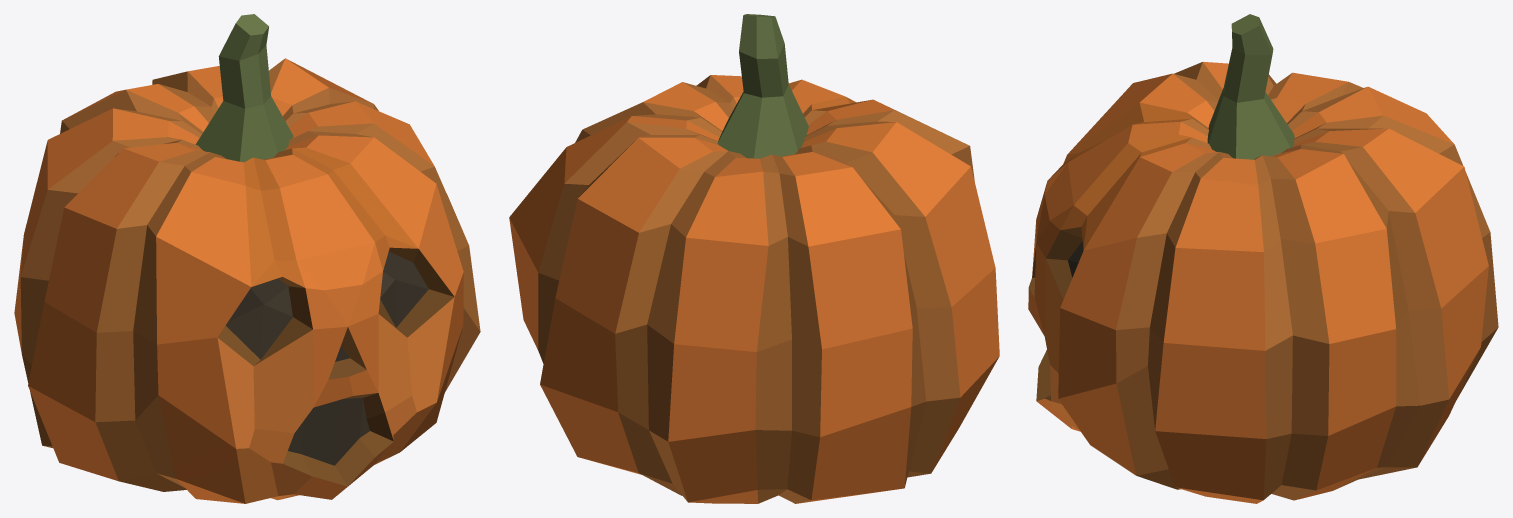
File: WF_LP_HT_Props_Pumpkin.001.fbx
The picture shows the model from 3 angles, left to right: view 1: azimuth 30°, elevation 25°; view 2: azimuth 150°, elevation 25°; view 3: azimuth 270°, elevation 25°; orthographic projection.
Parts seen in each view (by area): view 1: WF_LP_HT_Props_Pumpkin.001; view 2: WF_LP_HT_Props_Pumpkin.001; view 3: WF_LP_HT_Props_Pumpkin.001.
Boxes of the visible parts, bbox=[...] form: WF_LP_HT_Props_Pumpkin.001: bbox=[14, 14, 480, 503]; WF_LP_HT_Props_Pumpkin.001: bbox=[509, 14, 999, 503]; WF_LP_HT_Props_Pumpkin.001: bbox=[1028, 14, 1498, 503].
Bounding box in the file's own units: 0.6106 × 0.6106 × 0.5959.
